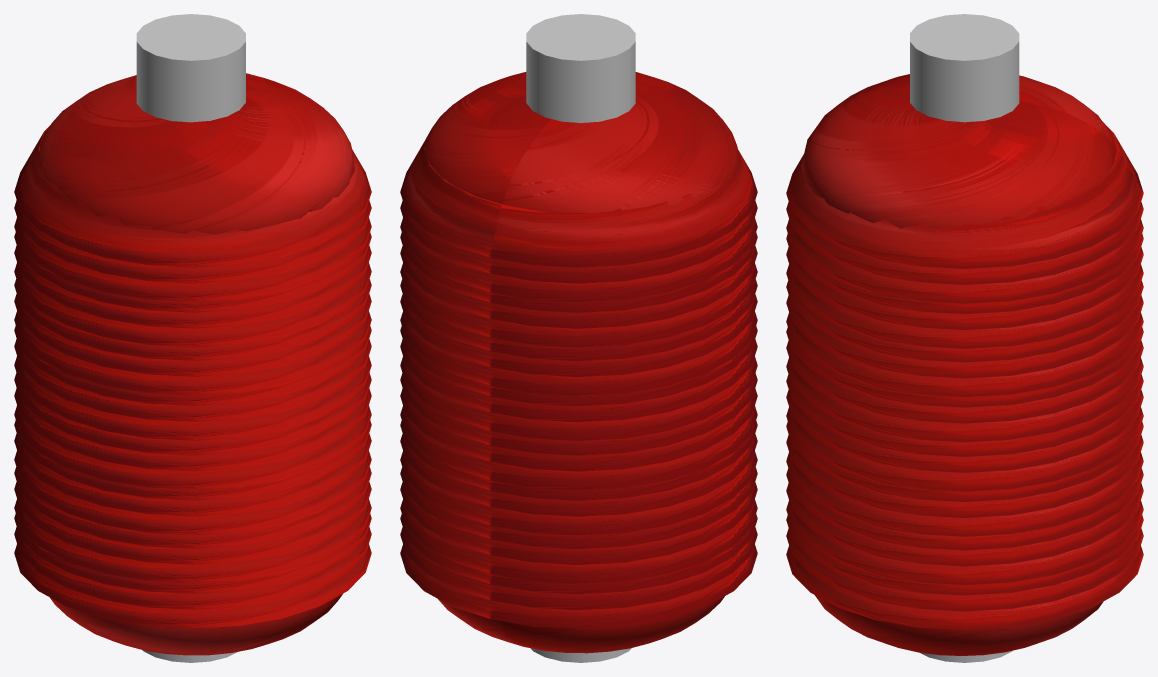
File: lamp5.FBX
3 renders of one model, left to right at view 1: azimuth 30°, elevation 25°; view 2: azimuth 150°, elevation 25°; view 3: azimuth 270°, elevation 25°, orthographic.
Parts seen in each view (by area): view 1: Sphere001, Cone006, Cylinder002, Cone016, Cone028, Cone021, Cone009, Cone014, Cone023, Cone026, Cone011, Sphere002 (+16 smaller); view 2: Sphere001, Cone006, Cylinder002, Cone028, Cone014, Cone016, Cone026, Cone009, Cone011, Cone021, Cone023, Cone013 (+16 smaller); view 3: Sphere001, Cone006, Cylinder002, Cone011, Cone023, Cone026, Cone009, Cone014, Cone021, Cone028, Cone016, Cone022 (+16 smaller).
Boxes of the visible parts, x1,y1,x2,y2 form: Sphere001: (38, 73, 354, 234); Cone006: (14, 126, 371, 267); Cylinder002: (136, 14, 245, 122); Cone016: (14, 356, 371, 440); Cone028: (14, 544, 371, 628); Cone021: (14, 405, 371, 489); Cone009: (14, 217, 371, 301); Cone014: (14, 311, 371, 395); Cone023: (14, 451, 371, 535); Cone026: (14, 499, 371, 583); Cone011: (14, 263, 371, 347); Sphere002: (50, 594, 342, 655); Sphere001: (423, 72, 739, 212); Cone006: (400, 141, 757, 267); Cylinder002: (526, 14, 635, 122); Cone028: (400, 544, 757, 628); Cone014: (400, 311, 757, 395); Cone016: (400, 356, 757, 440); Cone026: (400, 499, 757, 583); Cone009: (400, 218, 757, 302); Cone011: (400, 263, 757, 347); Cone021: (400, 406, 757, 490); Cone023: (400, 451, 757, 535); Cone013: (400, 294, 757, 377); Sphere001: (801, 74, 1116, 228); Cone006: (786, 122, 1143, 268); Cylinder002: (910, 14, 1019, 122); Cone011: (786, 264, 1143, 348); Cone023: (786, 452, 1143, 536); Cone026: (786, 500, 1143, 584); Cone009: (786, 219, 1143, 303); Cone014: (786, 312, 1143, 396); Cone021: (786, 407, 1143, 491); Cone028: (786, 545, 1143, 630); Cone016: (786, 358, 1143, 442); Cone022: (786, 435, 1143, 517).
Size of the model in its own units: 48.76 by 90.59 by 48.76.
